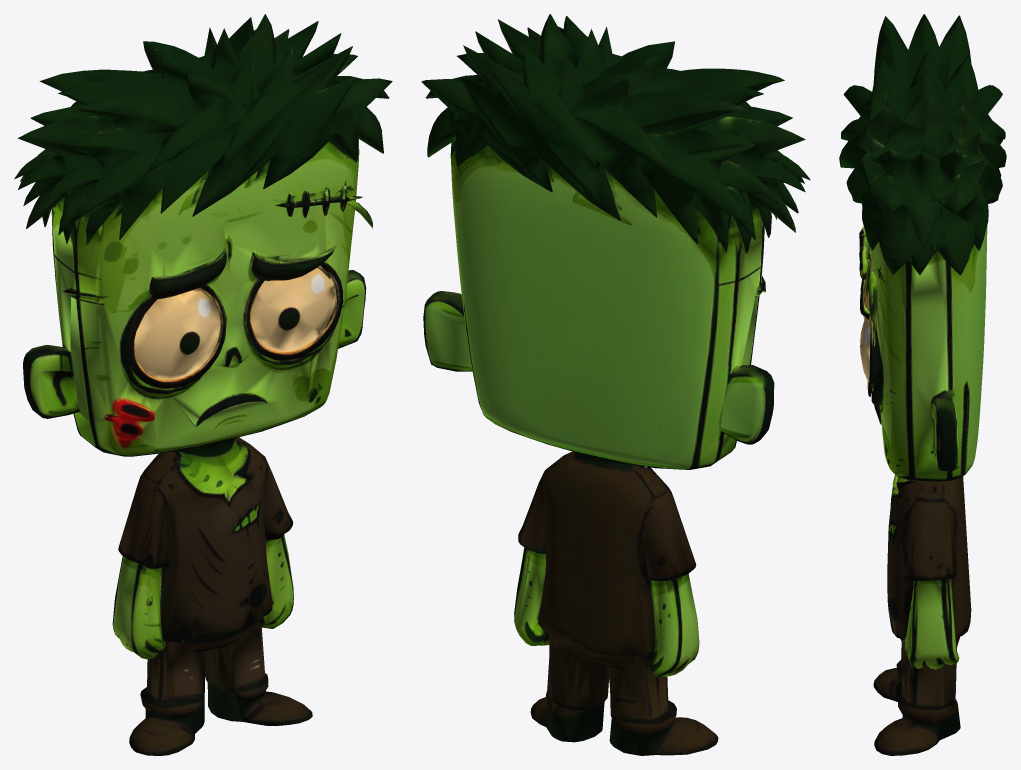
The model's file is zumbi.glb.
The picture shows the model from 3 angles, left to right: view 1: azimuth 30°, elevation 25°; view 2: azimuth 150°, elevation 25°; view 3: azimuth 270°, elevation 25°; orthographic projection. The views are drawn at different scales.
Visible parts, largest first — view 1: material; view 2: material; view 3: material.
Part boxes in pixels (box(x1,y1,x2,y2)): material: box(14, 14, 392, 755); material: box(421, 14, 810, 755); material: box(839, 14, 1006, 755).
Bounding box in the file's own units: 0.6529 × 1.17 × 0.2677.
Materials: 1 (1 with a texture image).
